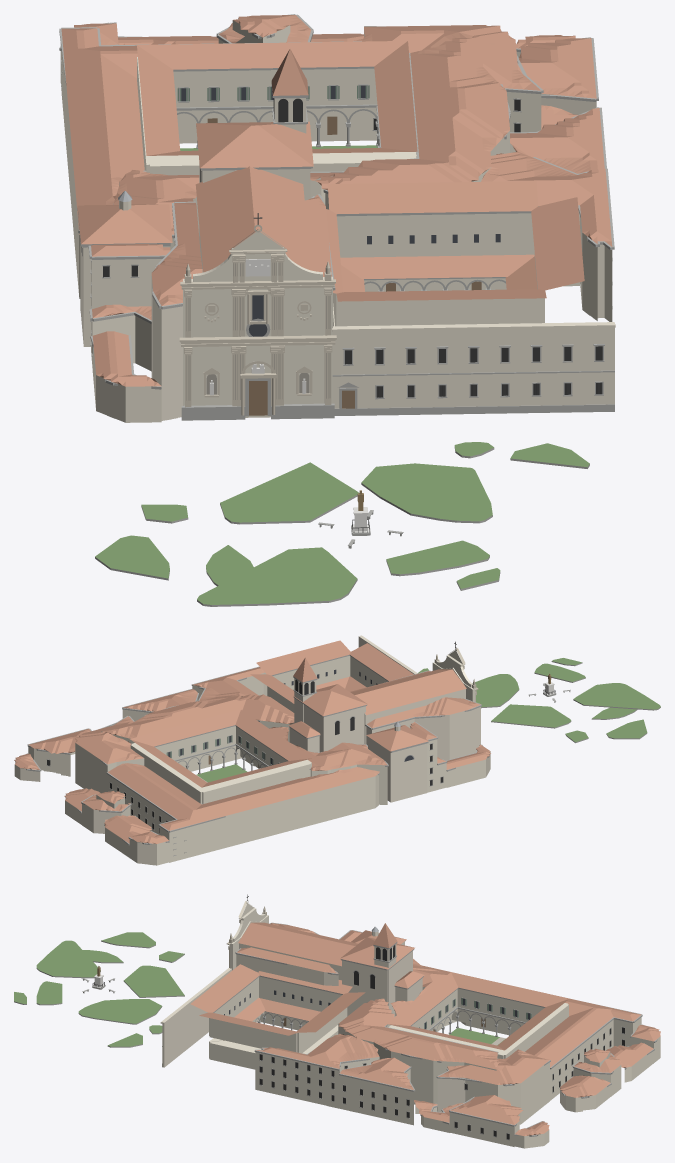
Rendered from san_marco.glb.
The picture shows the model from 3 angles, top to bottom: view 1: azimuth 30°, elevation 25°; view 2: azimuth 150°, elevation 25°; view 3: azimuth 270°, elevation 25°; orthographic projection. The views are drawn at different scales.
Parts seen in each view (by area): view 1: convento@1444-99999.roof_m, piazza_giardino@1873-99999.lawn, convento_fronte@1444-99999.plaster, chiostro_antonino@1444-99999.roof, chiostro_antonino@1444-99999.conv, convento@1444-99999.conv, chiostro_domenico@1444-99999.roof, facciata@1778-99999.wall, chiostro_domenico@1444-99999.conv, facciata@1778-99999.dress, navata@1443-99999.roof, tribuna@1679-99999.roof (+14 smaller); view 2: convento@1444-99999.roof_m, convento@1444-99999.conv, chiostro_domenico@1444-99999.conv, piazza_giardino@1873-99999.lawn, chiostro_domenico@1444-99999.roof, chiostro_antonino@1444-99999.roof, navata@1443-99999.roof, cappelle@1443-99999.plaster, cappella_salviati@1589-99999.plaster, tribuna@1679-99999.plaster, chiostro_antonino@1444-99999.conv, convento@1444-99999.serena (+9 smaller); view 3: convento@1444-99999.roof_m, convento@1444-99999.conv, piazza_giardino@1873-99999.lawn, chiostro_antonino@1444-99999.conv, chiostro_antonino@1444-99999.roof, chiostro_domenico@1444-99999.conv, chiostro_domenico@1444-99999.roof, navata@1443-99999.roof, convento@1444-99999.serena, convento_fronte@1444-99999.plaster, tribuna@1679-99999.plaster, cappelle@1443-99999.plaster (+9 smaller).
Boxes of the visible parts, <box> form: convento@1444-99999.roof_m: <box>61,15,612,386</box>; piazza_giardino@1873-99999.lawn: <box>95,442,589,604</box>; convento_fronte@1444-99999.plaster: <box>332,322,615,408</box>; chiostro_antonino@1444-99999.roof: <box>326,181,584,301</box>; chiostro_antonino@1444-99999.conv: <box>333,213,544,326</box>; convento@1444-99999.conv: <box>60,20,612,422</box>; chiostro_domenico@1444-99999.roof: <box>137,41,417,155</box>; facciata@1778-99999.wall: <box>183,230,332,417</box>; chiostro_domenico@1444-99999.conv: <box>137,57,416,175</box>; facciata@1778-99999.dress: <box>179,225,336,415</box>; navata@1443-99999.roof: <box>195,166,310,272</box>; tribuna@1679-99999.roof: <box>196,121,313,168</box>; convento@1444-99999.roof_m: <box>14,667,490,843</box>; convento@1444-99999.conv: <box>14,672,490,865</box>; chiostro_domenico@1444-99999.conv: <box>130,726,311,803</box>; piazza_giardino@1873-99999.lawn: <box>418,658,660,742</box>; chiostro_domenico@1444-99999.roof: <box>130,709,312,787</box>; chiostro_antonino@1444-99999.roof: <box>250,640,413,703</box>; navata@1443-99999.roof: <box>351,669,466,715</box>; cappelle@1443-99999.plaster: <box>366,707,480,760</box>; cappella_salviati@1589-99999.plaster: <box>368,726,427,802</box>; tribuna@1679-99999.plaster: <box>290,704,365,752</box>; chiostro_antonino@1444-99999.conv: <box>267,655,387,712</box>; convento@1444-99999.serena: <box>15,666,489,856</box>; convento@1444-99999.roof_m: <box>255,930,660,1136</box>; convento@1444-99999.conv: <box>255,987,660,1148</box>; piazza_giardino@1873-99999.lawn: <box>14,932,184,1046</box>; chiostro_antonino@1444-99999.conv: <box>209,976,347,1069</box>; chiostro_antonino@1444-99999.roof: <box>190,964,365,1035</box>; chiostro_domenico@1444-99999.conv: <box>389,988,568,1058</box>; chiostro_domenico@1444-99999.roof: <box>386,972,569,1050</box>; navata@1443-99999.roof: <box>238,922,357,966</box>; convento@1444-99999.serena: <box>254,930,657,1140</box>; convento_fronte@1444-99999.plaster: <box>160,968,231,1067</box>; tribuna@1679-99999.plaster: <box>342,951,422,1016</box>; cappelle@1443-99999.plaster: <box>236,954,338,1030</box>.
Size of the model in its own units: 140 by 36.26 by 176.
